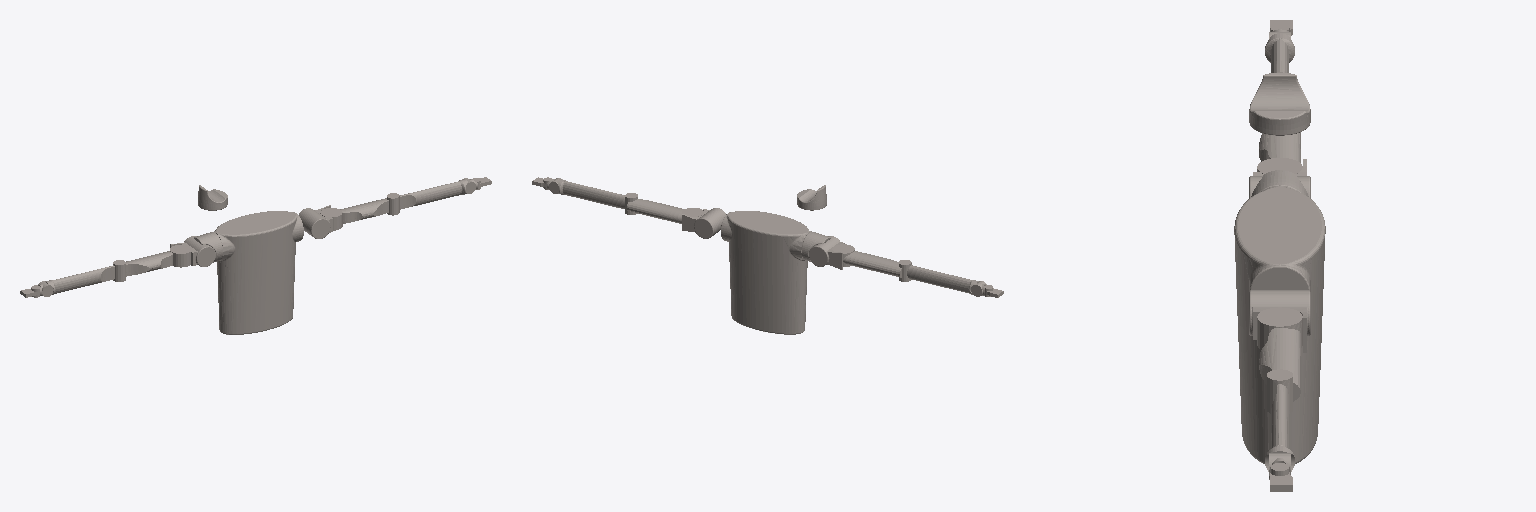
The robot description file, URDF, robot "lita_converted":
<?xml version="1.0"?>
<robot name="lita_converted" xmlns:xacro="http://www.ros.org/wiki/xacro">

  <!--fix the upper_body_link-->
  <link name="world"/>

  <joint name="fixed" type="fixed">
    <parent link="world"/>
    <child link="upper_body_link"/>
  </joint>

  <!--This is the robot describtion-->
  <link name="upper_body_link">
    <inertial>
      <origin xyz="-4.3975E-06 -1.1609E-08 0.15913" rpy="0 0 0" />
      <mass value="26.766" />
      <inertia
        ixx="10"
        ixy="10"
        ixz="10"
        iyy="10"
        iyz="10"
        izz="10" />
    </inertial>

    <visual>
      <origin xyz="0 0 0" rpy="0 0 0" />
      <geometry>
        <mesh filename="package://lita_converted/meshes/upper_body_link.STL" />
      </geometry>
      <material name="">
        <color rgba="0.68627 0.65882 0.63922 1" />
      </material>
    </visual>

    <collision>
      <origin xyz="0 0 0" rpy="0 0 0" />
      <geometry>
        <mesh filename="package://lita_converted/meshes/upper_body_link.STL" />
      </geometry>
    </collision>
  </link>

  <joint name="l_shoulder_roll" type="continuous">
    <origin xyz="0.125 0 0.26" rpy="0 -1.5708 0" />
    <parent link="upper_body_link" />
    <child link="l_shoulder_roll_link" />
    <axis xyz="0 0 -1" />
    <dynamics damping="0.7" />
  </joint>

  <link name="l_shoulder_roll_link">
    <inertial>
      <origin xyz="0.0033683 -7.6367E-09 -0.015946" rpy="0 0 0" />
      <mass value="0.63417" />
      <inertia
        ixx="0.000315"
        ixy="0"
        ixz="-5.2E-05"
        iyy="0.000373"
        iyz="0"
        izz="0.000525" />
    </inertial>

    <visual>
      <origin xyz="0.125 0 0.26" rpy="0 -1.5708 0" />
      <geometry>
        <mesh
          filename="package://lita_converted/meshes/l_shoulder_roll_link.STL" />
      </geometry>
      <material name="">
        <color rgba="0.68627 0.65882 0.63922 1" />
      </material>
    </visual>

    <collision>
      <origin xyz="0.125 0 0.26" rpy="0 -1.5708 0" />
      <geometry>
        <mesh
          filename="package://lita_converted/meshes/l_shoulder_roll_link.STL" />
      </geometry>
    </collision>
  </link>

  <link
    name="l_shoulder_pitch_link">
    <inertial>
      <origin
        xyz="0.0032993 5.9585E-10 -0.00098089"
        rpy="0 0 0" />
      <mass
        value="1.0724" />
      <inertia
        ixx="0.000841"
        ixy="0"
        ixz="-5.4E-05"
        iyy="0.000973"
        iyz="0"
        izz="0.000606" />
    </inertial>
    <visual>
      <origin
        xyz="0 0 0"
        rpy="0 0 0" />
      <geometry>
        <mesh
          filename="package://lita_converted/meshes/l_shoulder_pitch_link.STL" />
      </geometry>
      <material
        name="">
        <color
          rgba="0.68627 0.65882 0.63922 1" />
      </material>
    </visual>
    <collision>
      <origin
        xyz="0 0 0"
        rpy="0 0 0" />
      <geometry>
        <mesh
          filename="package://lita_converted/meshes/l_shoulder_pitch_link.STL" />
      </geometry>
    </collision>
  </link>
  <joint
    name="l_shoulder_pitch"
    type="revolute">
    <origin
      xyz="-0.0037133 0 -0.052049"
      rpy="1.5708 1.5708 0" />
    <parent
      link="l_shoulder_roll_link" />
    <child
      link="l_shoulder_pitch_link" />
    <axis
      xyz="0 0 -1" />
    <limit
      lower="-0.6981"
      upper="1.7104"
      effort="50000"
      velocity="500" />
    <calibration
      rising="1" />
    <dynamics
      damping="0.1"
      friction="0.1" />
    <safety_controller
      soft_upper="1.7"
      soft_lower="-0.69"
      k_position="1"
      k_velocity="1" />
  </joint>
  <link
    name="l_shoulder_yaw_link">
    <inertial>
      <origin
        xyz="0.065121 -0.0020967 1.7569E-07"
        rpy="0 0 0" />
      <mass
        value="1.3826" />
      <inertia
        ixx="0.000398"
        ixy="-0.000132"
        ixz="0"
        iyy="0.005026"
        iyz="0"
        izz="0.005143" />
    </inertial>
    <visual>
      <origin
        xyz="0 0 0"
        rpy="0 0 0" />
      <geometry>
        <mesh
          filename="package://lita_converted/meshes/l_shoulder_yaw_link.STL" />
      </geometry>
      <material
        name="">
        <color
          rgba="0.68627 0.65882 0.63922 1" />
      </material>
    </visual>
    <collision>
      <origin
        xyz="0 0 0"
        rpy="0 0 0" />
      <geometry>
        <mesh
          filename="package://lita_converted/meshes/l_shoulder_yaw_link.STL" />
      </geometry>
    </collision>
  </link>
  <joint
    name="l_shoulder_yaw"
    type="revolute">
    <origin
      xyz="0.055 0 0"
      rpy="1.5708 -4.1633E-17 -2.6021E-18" />
    <parent
      link="l_shoulder_pitch_link" />
    <child
      link="l_shoulder_yaw_link" />
    <axis
      xyz="0 0 1" />
    <limit
      lower="-0.1396"
      upper="1.6231"
      effort="50000"
      velocity="500" />
    <calibration
      rising="1" />
    <dynamics
      damping="0.1"
      friction="0.1" />
    <safety_controller
      soft_upper="1.61"
      soft_lower="-0.13"
      k_position="1"
      k_velocity="1" />
  </joint>
  <link
    name="l_elbow_link">
    <inertial>
      <origin
        xyz="0.088184 -0.0003499 -1.9687E-07"
        rpy="0 0 0" />
      <mass
        value="0.81599" />
      <inertia
        ixx="0.000143"
        ixy="1.5E-05"
        ixz="0"
        iyy="0.004114"
        iyz="0"
        izz="0.004046" />
    </inertial>
    <visual>
      <origin
        xyz="0 0 0"
        rpy="0 0 0" />
      <geometry>
        <mesh
          filename="package://lita_converted/meshes/l_elbow_link.STL" />
      </geometry>
      <material
        name="">
        <color
          rgba="0.68627 0.65882 0.63922 1" />
      </material>
    </visual>
    <collision>
      <origin
        xyz="0 0 0"
        rpy="0 0 0" />
      <geometry>
        <mesh
          filename="package://lita_converted/meshes/l_elbow_link.STL" />
      </geometry>
    </collision>
  </link>
  <joint
    name="l_elbow"
    type="revolute">
    <origin
      xyz="0.1903 0 0"
      rpy="-4.2858E-16 9.6277E-17 -4.1263E-32" />
    <parent
      link="l_shoulder_yaw_link" />
    <child
      link="l_elbow_link" />
    <axis
      xyz="0 0 1" />
    <limit
      lower="-0.7853"
      upper="2.4085"
      effort="50000"
      velocity="500" />
    <calibration
      rising="1" />
    <dynamics
      damping="0.1"
      friction="0.1" />
    <safety_controller
      soft_upper="2.4"
      soft_lower="-0.78"
      k_position="1"
      k_velocity="1" />
  </joint>
  <link
    name="l_wrist_roll_link">
    <inertial>
      <origin
        xyz="-1.4822E-09 1.5222E-08 -0.0042713"
        rpy="0 0 0" />
      <mass
        value="0.033212" />
      <inertia
        ixx="3E-06"
        ixy="0"
        ixz="0"
        iyy="6E-06"
        iyz="0"
        izz="8E-06" />
    </inertial>
    <visual>
      <origin
        xyz="0 0 0"
        rpy="0 0 0" />
      <geometry>
        <mesh
          filename="package://lita_converted/meshes/l_wrist_roll_link.STL" />
      </geometry>
      <material
        name="">
        <color
          rgba="0.68627 0.65882 0.63922 1" />
      </material>
    </visual>
    <collision>
      <origin
        xyz="0 0 0"
        rpy="0 0 0" />
      <geometry>
        <mesh
          filename="package://lita_converted/meshes/l_wrist_roll_link.STL" />
      </geometry>
    </collision>
  </link>
  <joint
    name="l_wrist_roll"
    type="continuous">
    <origin
      xyz="0.21 0 0"
      rpy="3.1416 1.5708 0" />
    <parent
      link="l_elbow_link" />
    <child
      link="l_wrist_roll_link" />
    <axis
      xyz="0 0 -1" />
    <limit
      effort="50000"
      velocity="500" />
    <calibration
      rising="1" />
    <dynamics
      damping="0.1"
      friction="0.1" />
    <safety_controller
      k_velocity="1" />
  </joint>
  <link
    name="l_wrist_pitch_link">
    <inertial>
      <origin
        xyz="0.0009785 -2.8101E-08 -1.4985E-08"
        rpy="0 0 0" />
      <mass
        value="0.13385" />
      <inertia
        ixx="2.1E-05"
        ixy="0"
        ixz="0"
        iyy="2.2E-05"
        iyz="0"
        izz="2.2E-05" />
    </inertial>
    <visual>
      <origin
        xyz="0 0 0"
        rpy="0 0 0" />
      <geometry>
        <mesh
          filename="package://lita_converted/meshes/l_wrist_pitch_link.STL" />
      </geometry>
      <material
        name="">
        <color
          rgba="0.68627 0.65882 0.63922 1" />
      </material>
    </visual>
    <collision>
      <origin
        xyz="0 0 0"
        rpy="0 0 0" />
      <geometry>
        <mesh
          filename="package://lita_converted/meshes/l_wrist_pitch_link.STL" />
      </geometry>
    </collision>
  </link>
  <joint
    name="l_wrist_pitch"
    type="revolute">
    <origin
      xyz="0 0 -0.02"
      rpy="1.5708 1.5708 0" />
    <parent
      link="l_wrist_roll_link" />
    <child
      link="l_wrist_pitch_link" />
    <axis
      xyz="0 0 -1" />
    <limit
      lower="-0.6981"
      upper="0.6981"
      effort="50000"
      velocity="500" />
    <calibration
      rising="1" />
    <dynamics
      damping="0.1"
      friction="0.1" />
    <safety_controller
      soft_upper="0.69"
      soft_lower="-0.69"
      k_position="1"
      k_velocity="1" />
  </joint>
  <link
    name="l_wrist_yaw_link">
    <inertial>
      <origin
        xyz="0.0096828 -0.0007914 2.2204E-16"
        rpy="0 0 0" />
      <mass
        value="0.089949" />
      <inertia
        ixx="8E-06"
        ixy="-1E-06"
        ixz="0"
        iyy="2E-05"
        iyz="0"
        izz="2.2E-05" />
    </inertial>
    <visual>
      <origin
        xyz="0 0 0"
        rpy="0 0 0" />
      <geometry>
        <mesh
          filename="package://lita_converted/meshes/l_wrist_yaw_link.STL" />
      </geometry>
      <material
        name="">
        <color
          rgba="0.68627 0.65882 0.63922 1" />
      </material>
    </visual>
    <collision>
      <origin
        xyz="0 0 0"
        rpy="0 0 0" />
      <geometry>
        <mesh
          filename="package://lita_converted/meshes/l_wrist_yaw_link.STL" />
      </geometry>
    </collision>
  </link>
  <joint
    name="l_wrist_yaw"
    type="revolute">
    <origin
      xyz="0.028 0 0"
      rpy="1.5708 -1.0276E-16 -6.9285E-31" />
    <parent
      link="l_wrist_pitch_link" />
    <child
      link="l_wrist_yaw_link" />
    <axis
      xyz="0 0 1" />
    <limit
      lower="-0.3141"
      upper="0.3141"
      effort="50000"
      velocity="500" />
    <calibration
      rising="1" />
    <dynamics
      damping="0.1"
      friction="0.1" />
    <safety_controller
      soft_upper="0.31"
      soft_lower="-0.31"
      k_position="1"
      k_velocity="1" />
  </joint>
  <link
    name="r_shoulder_roll_link">
    <inertial>
      <origin
        xyz="0.0033683 7.6367E-09 0.015946"
        rpy="0 0 0" />
      <mass
        value="0.63417" />
      <inertia
        ixx="0.000315"
        ixy="0"
        ixz="5.2E-05"
        iyy="0.000373"
        iyz="0"
        izz="0.000525" />
    </inertial>
    <visual>
      <origin
        xyz="0 0 0"
        rpy="0 0 0" />
      <geometry>
        <mesh
          filename="package://lita_converted/meshes/r_shoulder_roll_link.STL" />
      </geometry>
      <material
        name="">
        <color
          rgba="0.68627 0.65882 0.63922 1" />
      </material>
    </visual>
    <collision>
      <origin
        xyz="0 0 0"
        rpy="0 0 0" />
      <geometry>
        <mesh
          filename="package://lita_converted/meshes/r_shoulder_roll_link.STL" />
      </geometry>
    </collision>
  </link>
  <joint
    name="r_shoulder_roll"
    type="continuous">
    <origin
      xyz="-0.125 0 0.26"
      rpy="0 -1.5708 0" />
    <parent
      link="upper_body_link" />
    <child
      link="r_shoulder_roll_link" />
    <axis
      xyz="0 0 -1" />
    <limit
      effort="50000"
      velocity="500" />
    <calibration
      rising="1" />
    <dynamics
      damping="0.1"
      friction="0.1" />
    <safety_controller
      k_velocity="1" />
  </joint>
  <link
    name="r_shoulder_pitch_link">
    <inertial>
      <origin
        xyz="0.0032993 -5.9585E-10 0.00098089"
        rpy="0 0 0" />
      <mass
        value="1.0724" />
      <inertia
        ixx="0.000841"
        ixy="0"
        ixz="5.4E-05"
        iyy="0.000973"
        iyz="0"
        izz="0.000606" />
    </inertial>
    <visual>
      <origin
        xyz="0 0 0"
        rpy="0 0 0" />
      <geometry>
        <mesh
          filename="package://lita_converted/meshes/r_shoulder_pitch_link.STL" />
      </geometry>
      <material
        name="">
        <color
          rgba="0.68627 0.65882 0.63922 1" />
      </material>
    </visual>
    <collision>
      <origin
        xyz="0 0 0"
        rpy="0 0 0" />
      <geometry>
        <mesh
          filename="package://lita_converted/meshes/r_shoulder_pitch_link.STL" />
      </geometry>
    </collision>
  </link>
  <joint
    name="r_shoulder_pitch"
    type="revolute">
    <origin
      xyz="-0.0037133 0 0.052049"
      rpy="-1.5708 -1.5708 0" />
    <parent
      link="r_shoulder_roll_link" />
    <child
      link="r_shoulder_pitch_link" />
    <axis
      xyz="0 0 -1" />
    <limit
      lower="-0.6981"
      upper="1.7104"
      effort="50000"
      velocity="500" />
    <calibration
      rising="1" />
    <dynamics
      damping="0.1"
      friction="0.1" />
    <safety_controller
      soft_upper="1.7"
      soft_lower="-0.69"
      k_position="1"
      k_velocity="1" />
  </joint>
  <link
    name="r_shoulder_yaw_link">
    <inertial>
      <origin
        xyz="0.065121 -0.0020967 1.7569E-07"
        rpy="0 0 0" />
      <mass
        value="1.3826" />
      <inertia
        ixx="0.000398"
        ixy="-0.000132"
        ixz="0"
        iyy="0.005026"
        iyz="0"
        izz="0.005143" />
    </inertial>
    <visual>
      <origin
        xyz="0 0 0"
        rpy="0 0 0" />
      <geometry>
        <mesh
          filename="package://lita_converted/meshes/r_shoulder_yaw_link.STL" />
      </geometry>
      <material
        name="">
        <color
          rgba="0.68627 0.65882 0.63922 1" />
      </material>
    </visual>
    <collision>
      <origin
        xyz="0 0 0"
        rpy="0 0 0" />
      <geometry>
        <mesh
          filename="package://lita_converted/meshes/r_shoulder_yaw_link.STL" />
      </geometry>
    </collision>
  </link>
  <joint
    name="r_shoulder_yaw"
    type="revolute">
    <origin
      xyz="0.055 0 0"
      rpy="-1.5708 3.2819E-17 -4.3368E-18" />
    <parent
      link="r_shoulder_pitch_link" />
    <child
      link="r_shoulder_yaw_link" />
    <axis
      xyz="0 0 1" />
    <limit
      lower="-0.1396"
      upper="1.6231"
      effort="50000"
      velocity="500" />
    <calibration
      rising="1" />
    <dynamics
      damping="0.1"
      friction="0.1" />
    <safety_controller
      soft_upper="1.61"
      soft_lower="-0.13"
      k_velocity="0" />
  </joint>
  <link
    name="r_elbow_link">
    <inertial>
      <origin
        xyz="0.088184 -0.0003499 -1.9687E-07"
        rpy="0 0 0" />
      <mass
        value="0.81599" />
      <inertia
        ixx="0.000143"
        ixy="1.5E-05"
        ixz="0"
        iyy="0.004114"
        iyz="0"
        izz="0.004046" />
    </inertial>
    <visual>
      <origin
        xyz="0 0 0"
        rpy="0 0 0" />
      <geometry>
        <mesh
          filename="package://lita_converted/meshes/r_elbow_link.STL" />
      </geometry>
      <material
        name="">
        <color
          rgba="0.68627 0.65882 0.63922 1" />
      </material>
    </visual>
    <collision>
      <origin
        xyz="0 0 0"
        rpy="0 0 0" />
      <geometry>
        <mesh
          filename="package://lita_converted/meshes/r_elbow_link.STL" />
      </geometry>
    </collision>
  </link>
  <joint
    name="r_elbow"
    type="revolute">
    <origin
      xyz="0.1903 0 0"
      rpy="1.2818E-16 -4.3368E-18 -2.8339E-19" />
    <parent
      link="r_shoulder_yaw_link" />
    <child
      link="r_elbow_link" />
    <axis
      xyz="0 0 1" />
    <limit
      lower="-0.7853"
      upper="2.4085"
      effort="50000"
      velocity="500" />
    <calibration
      rising="1" />
    <dynamics
      damping="0.1"
      friction="0.1" />
    <safety_controller
      soft_upper="2.4"
      soft_lower="-0.78"
      k_position="1"
      k_velocity="1" />
  </joint>
  <link
    name="r_wrist_roll_link">
    <inertial>
      <origin
        xyz="-1.4822E-09 -1.5222E-08 0.0042713"
        rpy="0 0 0" />
      <mass
        value="0.033212" />
      <inertia
        ixx="3E-06"
        ixy="0"
        ixz="0"
        iyy="6E-06"
        iyz="0"
        izz="8E-06" />
    </inertial>
    <visual>
      <origin
        xyz="0 0 0"
        rpy="0 0 0" />
      <geometry>
        <mesh
          filename="package://lita_converted/meshes/r_wrist_roll_link.STL" />
      </geometry>
      <material
        name="">
        <color
          rgba="0.68627 0.65882 0.63922 1" />
      </material>
    </visual>
    <collision>
      <origin
        xyz="0 0 0"
        rpy="0 0 0" />
      <geometry>
        <mesh
          filename="package://lita_converted/meshes/r_wrist_roll_link.STL" />
      </geometry>
    </collision>
  </link>
  <joint
    name="r_wrist_roll"
    type="continuous">
    <origin
      xyz="0.21 0 0"
      rpy="0 1.5708 0" />
    <parent
      link="r_elbow_link" />
    <child
      link="r_wrist_roll_link" />
    <axis
      xyz="0 0 -1" />
    <limit
      effort="50000"
      velocity="500" />
    <calibration
      rising="1" />
    <dynamics
      damping="0.1"
      friction="0.1" />
    <safety_controller
      k_velocity="1" />
  </joint>
  <link
    name="r_wrist_pitch_link">
    <inertial>
      <origin
        xyz="0.0009785 -2.8101E-08 -1.4985E-08"
        rpy="0 0 0" />
      <mass
        value="0.13385" />
      <inertia
        ixx="2.1E-05"
        ixy="0"
        ixz="0"
        iyy="2.2E-05"
        iyz="0"
        izz="2.2E-05" />
    </inertial>
    <visual>
      <origin
        xyz="0 0 0"
        rpy="0 0 0" />
      <geometry>
        <mesh
          filename="package://lita_converted/meshes/r_wrist_pitch_link.STL" />
      </geometry>
      <material
        name="">
        <color
          rgba="0.68627 0.65882 0.63922 1" />
      </material>
    </visual>
    <collision>
      <origin
        xyz="0 0 0"
        rpy="0 0 0" />
      <geometry>
        <mesh
          filename="package://lita_converted/meshes/r_wrist_pitch_link.STL" />
      </geometry>
    </collision>
  </link>
  <joint
    name="r_wrist_pitch"
    type="revolute">
    <origin
      xyz="0 0 0.02"
      rpy="1.5708 -1.5708 0" />
    <parent
      link="r_wrist_roll_link" />
    <child
      link="r_wrist_pitch_link" />
    <axis
      xyz="0 0 -1" />
    <limit
      lower="-0.6981"
      upper="0.6981"
      effort="50000"
      velocity="500" />
    <calibration
      rising="1" />
    <dynamics
      damping="0.1"
      friction="0.1" />
    <safety_controller
      soft_upper="0.69"
      soft_lower="-0.69"
      k_position="1"
      k_velocity="1" />
  </joint>
  <link
    name="r_wrist_yaw_link">
    <inertial>
      <origin
        xyz="0.0096828 -0.0007914 0"
        rpy="0 0 0" />
      <mass
        value="0.089949" />
      <inertia
        ixx="8E-06"
        ixy="-1E-06"
        ixz="0"
        iyy="2E-05"
        iyz="0"
        izz="2.2E-05" />
    </inertial>
    <visual>
      <origin
        xyz="0 0 0"
        rpy="0 0 0" />
      <geometry>
        <mesh
          filename="package://lita_converted/meshes/r_wrist_yaw_link.STL" />
      </geometry>
      <material
        name="">
        <color
          rgba="0.68627 0.65882 0.63922 1" />
      </material>
    </visual>
    <collision>
      <origin
        xyz="0 0 0"
        rpy="0 0 0" />
      <geometry>
        <mesh
          filename="package://lita_converted/meshes/r_wrist_yaw_link.STL" />
      </geometry>
    </collision>
  </link>
  <joint
    name="r_wrist_yaw"
    type="revolute">
    <origin
      xyz="0.028 0 0"
      rpy="-1.5708 3.3944E-20 8.6736E-18" />
    <parent
      link="r_wrist_pitch_link" />
    <child
      link="r_wrist_yaw_link" />
    <axis
      xyz="0 0 1" />
    <limit
      lower="-0.3141"
      upper="0.3141"
      effort="50000"
      velocity="500" />
    <calibration
      rising="1" />
    <dynamics
      damping="0.1"
      friction="0.1" />
    <safety_controller
      soft_upper="0.31"
      soft_lower="-0.31"
      k_position="1"
      k_velocity="1" />
  </joint>
</robot>

--- What the picture shows (computed from the rendered views, not written in the file) ---
The picture shows the robot from 3 angles, left to right: view 1: azimuth 30°, elevation 25°; view 2: azimuth 150°, elevation 25°; view 3: azimuth 270°, elevation 25°; orthographic projection.
Robot: lita_converted — 16 links, 15 joints (10 revolute, 4 continuous, 1 fixed); root link world; default pose: every joint at zero.
Links seen in each view (by area): view 1: upper_body_link, l_elbow_link, r_shoulder_yaw_link, r_elbow_link, l_shoulder_yaw_link, l_shoulder_pitch_link, r_shoulder_pitch_link, l_shoulder_roll_link; view 2: upper_body_link, r_elbow_link, l_elbow_link, r_shoulder_yaw_link, l_shoulder_yaw_link, l_shoulder_pitch_link, r_shoulder_pitch_link, l_shoulder_roll_link; view 3: upper_body_link, l_shoulder_roll_link, l_shoulder_yaw_link, l_elbow_link, l_shoulder_pitch_link, r_shoulder_yaw_link, r_elbow_link, r_shoulder_roll_link, l_wrist_yaw_link.
Link boxes in pixels (<box>): upper_body_link: <box>214,211,303,334</box>; l_elbow_link: <box>387,180,464,215</box>; r_shoulder_yaw_link: <box>126,245,191,276</box>; r_elbow_link: <box>51,260,125,293</box>; l_shoulder_yaw_link: <box>320,198,388,230</box>; l_shoulder_pitch_link: <box>299,205,332,238</box>; r_shoulder_pitch_link: <box>170,236,215,266</box>; l_shoulder_roll_link: <box>198,185,227,210</box>; upper_body_link: <box>721,211,811,334</box>; r_elbow_link: <box>899,260,972,293</box>; l_elbow_link: <box>560,180,637,214</box>; r_shoulder_yaw_link: <box>832,244,901,277</box>; l_shoulder_yaw_link: <box>627,199,703,223</box>; l_shoulder_pitch_link: <box>682,208,725,238</box>; r_shoulder_pitch_link: <box>809,236,844,269</box>; l_shoulder_roll_link: <box>797,185,826,210</box>; upper_body_link: <box>1234,185,1325,463</box>; l_shoulder_roll_link: <box>1249,72,1310,135</box>; l_shoulder_yaw_link: <box>1257,307,1302,401</box>; l_elbow_link: <box>1267,369,1292,448</box>; l_shoulder_pitch_link: <box>1249,290,1310,352</box>; r_shoulder_yaw_link: <box>1257,132,1302,173</box>; r_elbow_link: <box>1265,38,1294,72</box>; r_shoulder_roll_link: <box>1251,170,1308,196</box>; l_wrist_yaw_link: <box>1270,463,1292,491</box>.
Bounding box of the posed robot: 1.44 × 0.1196 × 0.4424 m (x, y, z).
15 mesh visuals loaded from 15 distinct referenced files (15 binary STL).